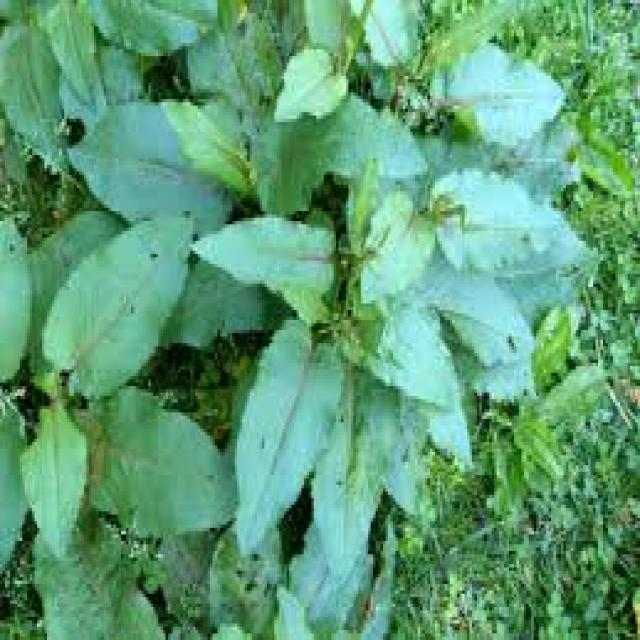organic waste: (158, 59, 522, 538), (0, 211, 222, 633), (304, 16, 558, 356), (134, 452, 415, 640), (289, 0, 546, 168), (0, 0, 217, 158)
